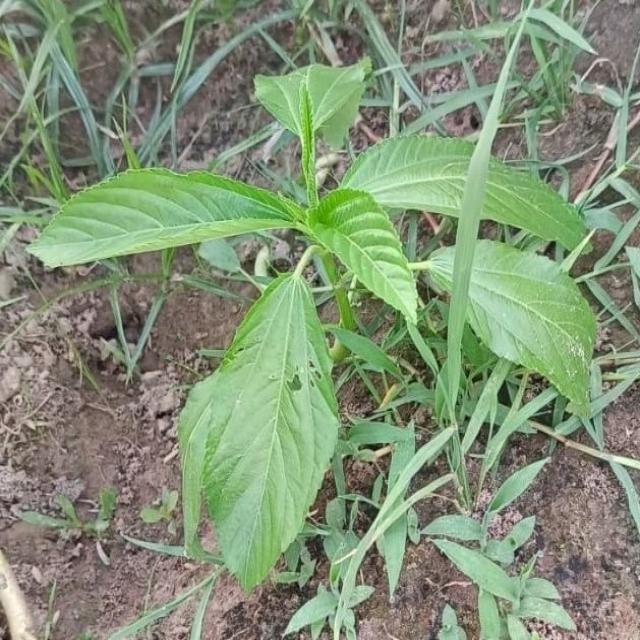plant: (31, 62, 474, 320), (180, 257, 339, 588), (469, 240, 596, 405), (482, 161, 585, 249)
